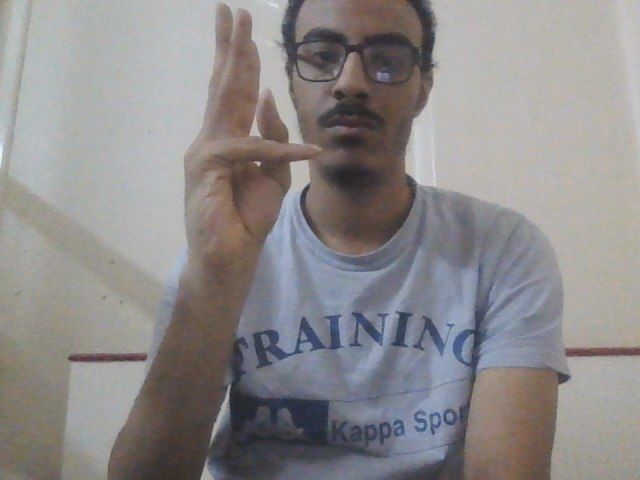Water: (179, 1, 309, 271)
